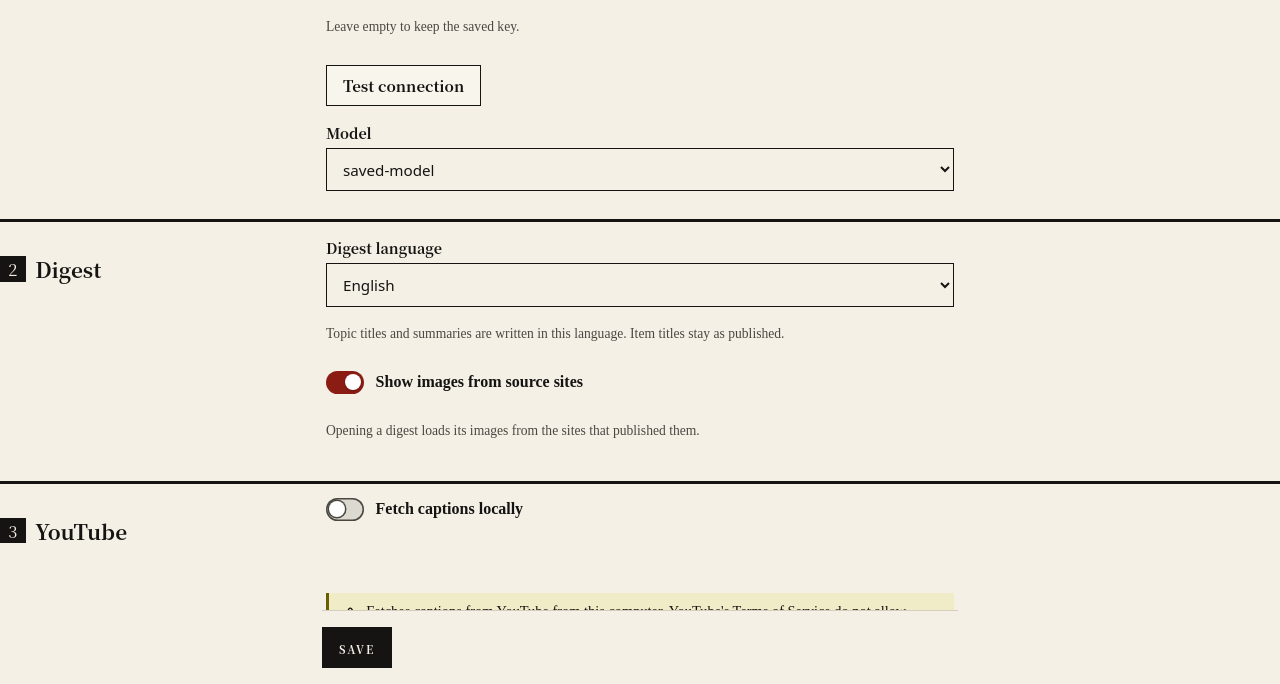
Test: model settings › shows an input when another language is chosen
(page scrolled)
Select "Other" in the dropdown labelled "Digest language" at (640, 285), box [326,263,954,306]
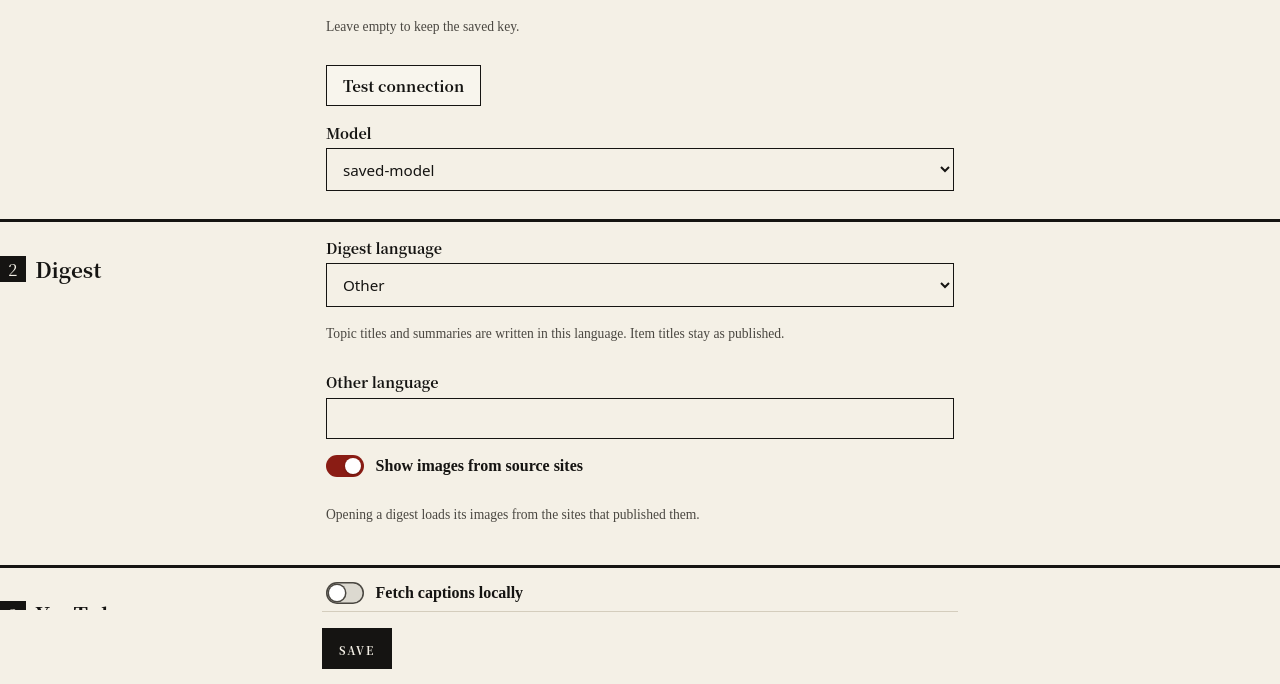
Check: the field labelled "Other language" is shown, box [326,398,954,439]
